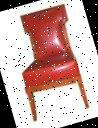Silla: (4, 4, 94, 124)
